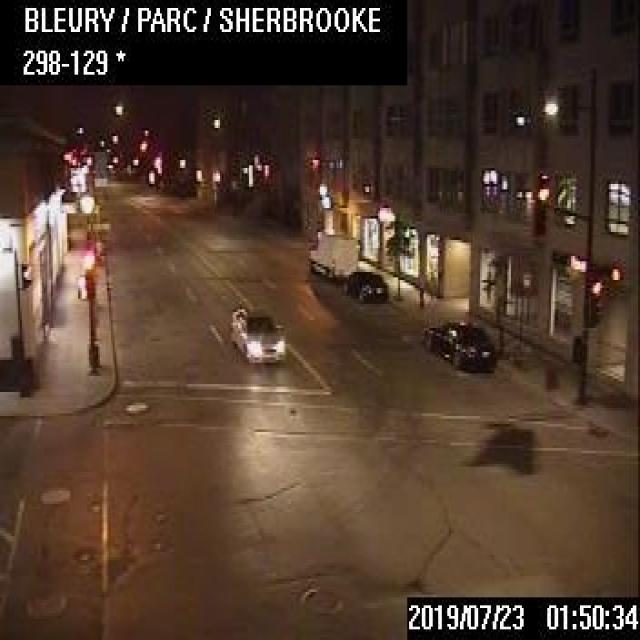vehicle: (422, 317, 494, 371), (230, 304, 286, 362), (307, 229, 357, 278), (340, 268, 386, 301)
